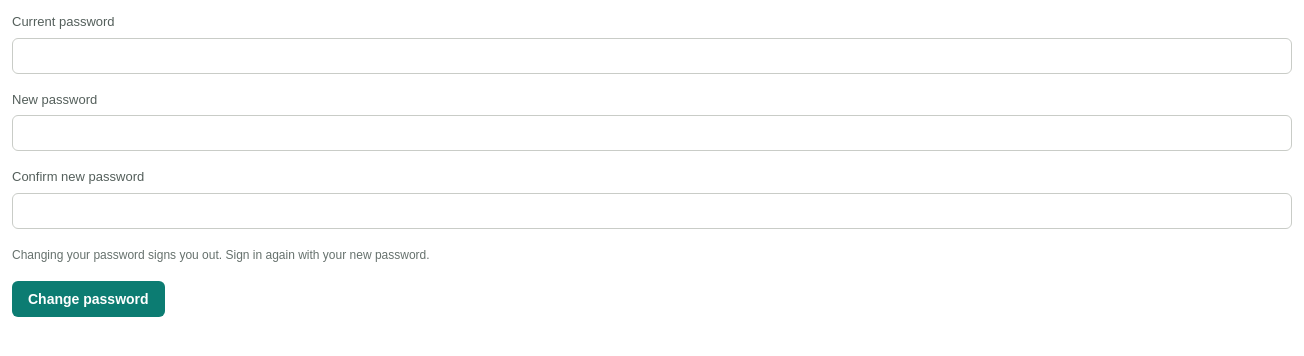
Test: PasswordSettingsForm › rejects mismatched password confirmation
Type "CurrentPassword1" into the password field labelled "Current password".
click(652, 56); type("CurrentPassword1")  # box top-left (12, 38), bottom-right (1292, 74)
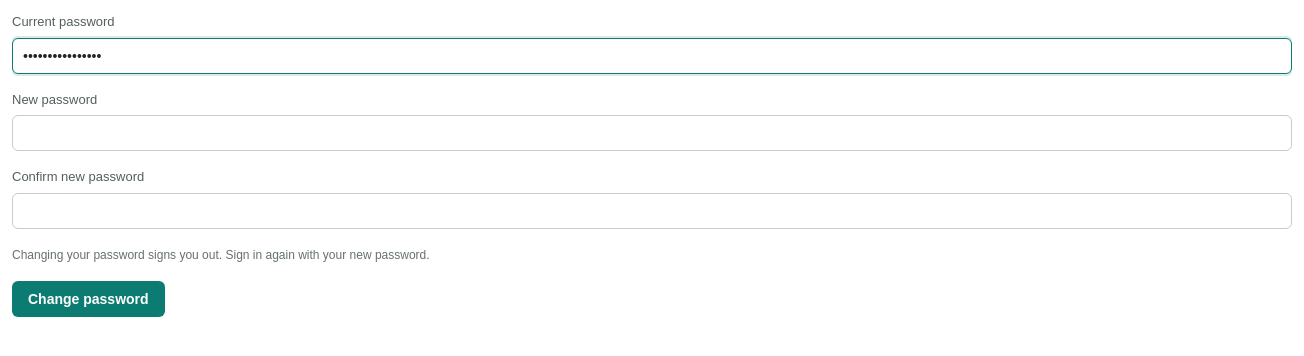
Type "BetterPassword123" into the password field labelled "New password".
click(652, 133); type("BetterPassword123")  # box top-left (12, 115), bottom-right (1292, 151)
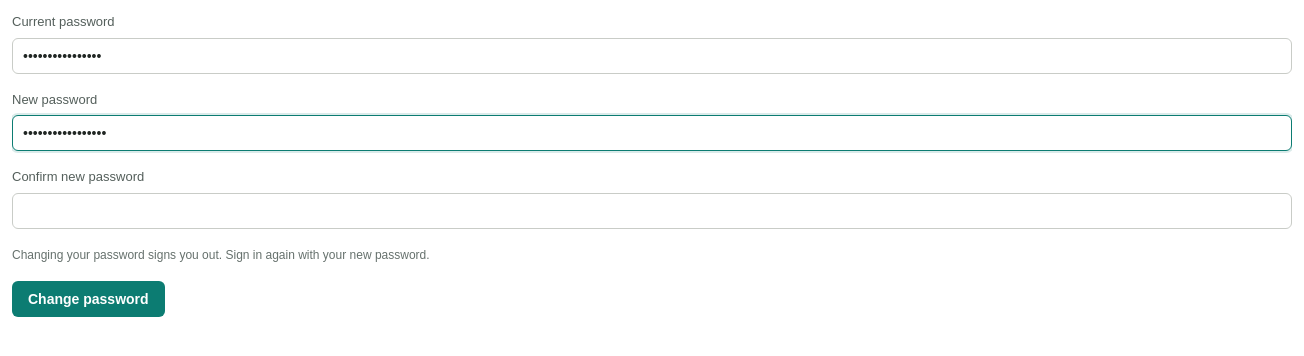
Type "NotTheSamePassword" into the password field labelled "Confirm new password".
click(652, 210); type("NotTheSamePassword")  # box top-left (12, 192), bottom-right (1292, 228)
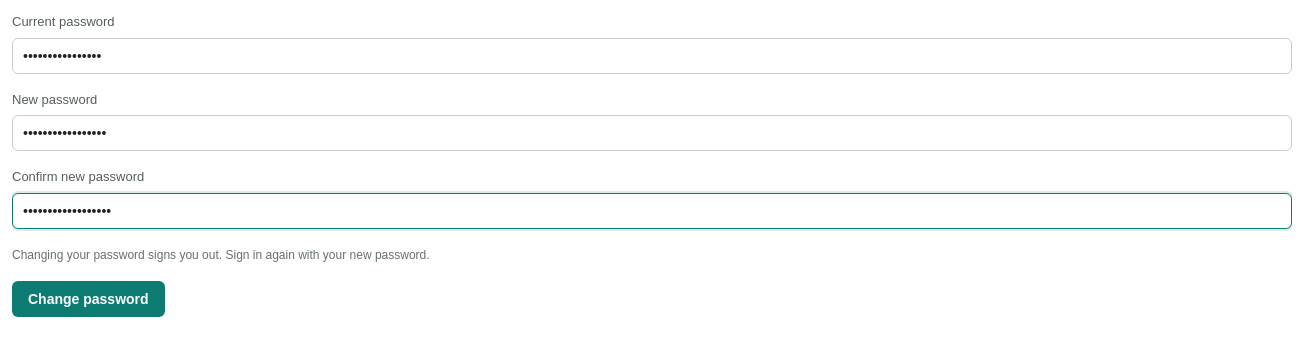
Click the button "Change password".
click(88, 298)  # box top-left (12, 280), bottom-right (165, 316)
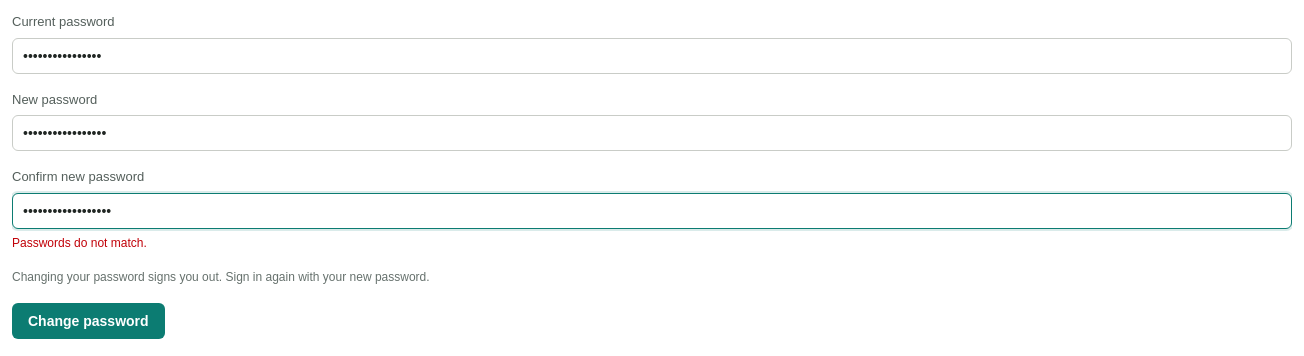
Check: the text "Passwords do not match." is shown, box top-left (12, 236), bottom-right (147, 250)
